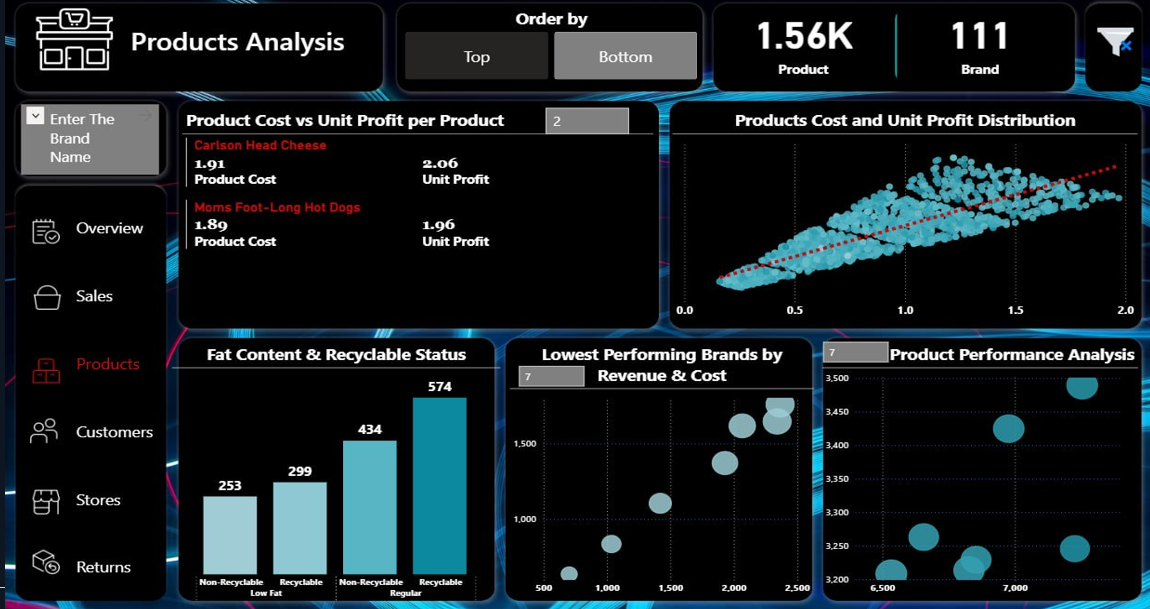

The page's visual inventory and layout, read from the dashboard file:
{"tool":"powerbi","page":{"name":"Products","canvas":[1600,960],"ordinal":2},"visuals":[{"type":"cardVisual","fields":{"Data":["Count(vw_CleanProducts.product_name)","Count(vw_CleanProducts.product_brand)"]},"box":[987.7,14.5,493.8,130.3],"z":0},{"type":"textbox","box":[163.3,41.9,367.8,78.8],"z":1000,"group":"g1"},{"type":"scatterChart","title":"Lowest Performing Brands by Revenue & Cost","fields":{"Category":["vw_CleanProducts.product_brand"],"Y":["_Measures.Total Cost"],"Size":["_Measures.Bottom_N_B_R"],"X":["_Measures.Bottom_N_B_R"]},"box":[704.6,535.7,421.4,392.5],"z":1000},{"type":"scatterChart","title":"Product Performance Analysis","fields":{"Size":["_Measures.Avg Cost"],"Category":["vw_CleanProducts.product_name"],"X":["_Measures.Total Revenue"],"Y":["_Measures.Top Cost"]},"box":[1137.3,535.7,437.5,392.5],"z":2000},{"type":"lineStackedColumnComboChart","title":"Fat Content & Recyclable Status","fields":{"Category":["vw_CleanProducts.fat_content","vw_CleanProducts.recyclable_status"],"Y":["Count(vw_CleanProducts.product_id)"]},"box":[236.5,535.7,455.2,403.8],"z":3000},{"type":"slicer","title":"Top_Cost","fields":{"Values":["C.C"]},"box":[1126.5,522.5,175.1,62.3],"z":4000},{"type":"slicer","title":"B_R","fields":{"Values":["B_R.B_R"]},"box":[705,559.6,169.2,86.1],"z":5000},{"type":"scatterChart","title":"Products Cost and Unit Profit Distribution","fields":{"X":["Sum(vw_CleanProducts.product_cost)"],"Y":["Sum(vw_CleanProducts.unit_profit)"],"Category":["vw_CleanProducts.product_id"]},"box":[929.8,176.9,645,328.2],"z":6000},{"type":"textSlicer","fields":{"Values":["vw_CleanProducts.product_brand"]},"box":[22.5,164.1,201.1,117.4],"z":7000},{"type":"advancedSlicerVisual","title":"Order by","fields":{"Values":["Top/Bottom.Value"]},"box":[555,20.9,415,115.8],"z":8000},{"type":"pageNavigator","box":[90.1,310.5,144.8,617.7],"z":9000},{"type":"multiRowCard","title":"Product Cost vs Unit Profit per Product","fields":{"Values":["vw_CleanProducts.product_name","Avg(vw_CleanProducts.product_cost)","Avg(vw_CleanProducts.unit_profit)"]},"box":[250.9,176.9,653.1,328.2],"z":10000},{"type":"slicer","title":"Top/Bottom","fields":{"Values":["top/bottom products.top/bottom products"]},"box":[741.6,164.1,176.9,61.1],"z":11000},{"type":"group","id":"g1","title":"Group 11","box":[163.3,41.9,367.8,78.8],"z":12000},{"type":"image","box":[42.7,11.5,116.6,128.1],"z":13000},{"type":"image","box":[1487.7,34.5,111.7,77.2],"z":14000},{"type":"group","id":"g2","title":"Group 1","box":[35.4,339.4,53.1,556.6],"z":15000},{"type":"image","box":[39.5,440.9,47.6,49.3],"z":19000,"group":"g2"},{"type":"image","box":[37.8,339.4,47.6,49.3],"z":22000,"group":"g2"},{"type":"image","box":[35.4,644.4,47.6,49.3],"z":23000,"group":"g2"},{"type":"image","box":[38.7,754.4,47.6,49.3],"z":24000,"group":"g2"},{"type":"image","box":[38.7,554,47.6,49.3],"z":25000,"group":"g2"},{"type":"image","box":[37.8,846.8,47.6,49.3],"z":26000,"group":"g2"}]}

Visuals, with their boxes on the page's 1600x960 design canvas (x1, y1, x2, y2). These are canvas units, not pixel positions in the 1150x609 screenshot, which may show the page scaled, cropped or inside an application window:
cardVisual - Count(vw_CleanProducts.product_name) x Count(vw_CleanProducts.product_brand): Rect(988, 14, 1482, 145)
textbox: Rect(163, 42, 531, 121)
"Lowest Performing Brands by Revenue & Cost" scatterChart: Rect(705, 536, 1126, 928)
"Product Performance Analysis" scatterChart: Rect(1137, 536, 1575, 928)
"Fat Content & Recyclable Status" lineStackedColumnComboChart: Rect(236, 536, 692, 940)
"Top_Cost" slicer: Rect(1126, 522, 1302, 585)
"B_R" slicer: Rect(705, 560, 874, 646)
"Products Cost and Unit Profit Distribution" scatterChart: Rect(930, 177, 1575, 505)
textSlicer - vw_CleanProducts.product_brand: Rect(22, 164, 224, 282)
"Order by" advancedSlicerVisual: Rect(555, 21, 970, 137)
pageNavigator: Rect(90, 310, 235, 928)
"Product Cost vs Unit Profit per Product" multiRowCard: Rect(251, 177, 904, 505)
"Top/Bottom" slicer: Rect(742, 164, 918, 225)
"Group 11" group: Rect(163, 42, 531, 121)
image: Rect(43, 12, 159, 140)
image: Rect(1488, 34, 1599, 112)
"Group 1" group: Rect(35, 339, 88, 896)
image: Rect(40, 441, 87, 490)
image: Rect(38, 339, 85, 389)
image: Rect(35, 644, 83, 694)
image: Rect(39, 754, 86, 804)
image: Rect(39, 554, 86, 603)
image: Rect(38, 847, 85, 896)
